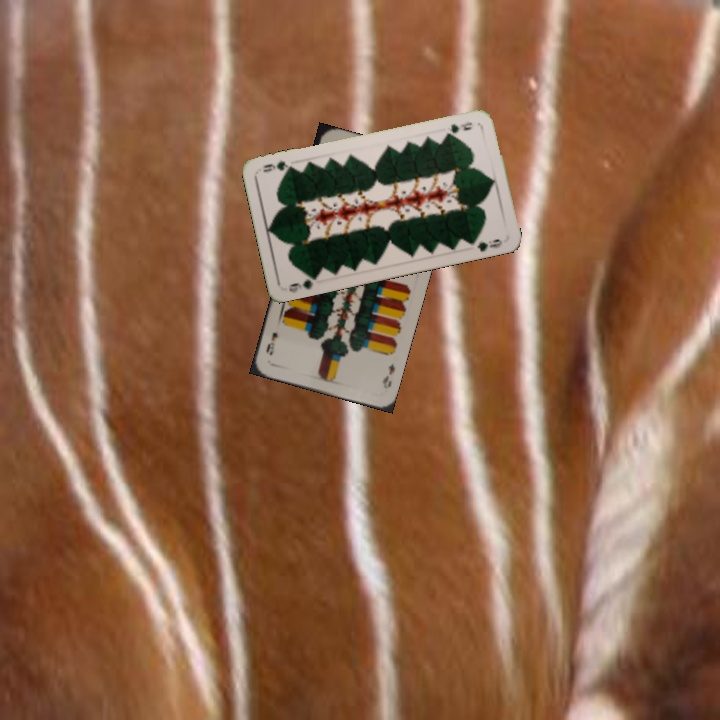E9: (378, 359, 398, 391)
G9: (284, 270, 321, 295), (442, 118, 475, 138)
